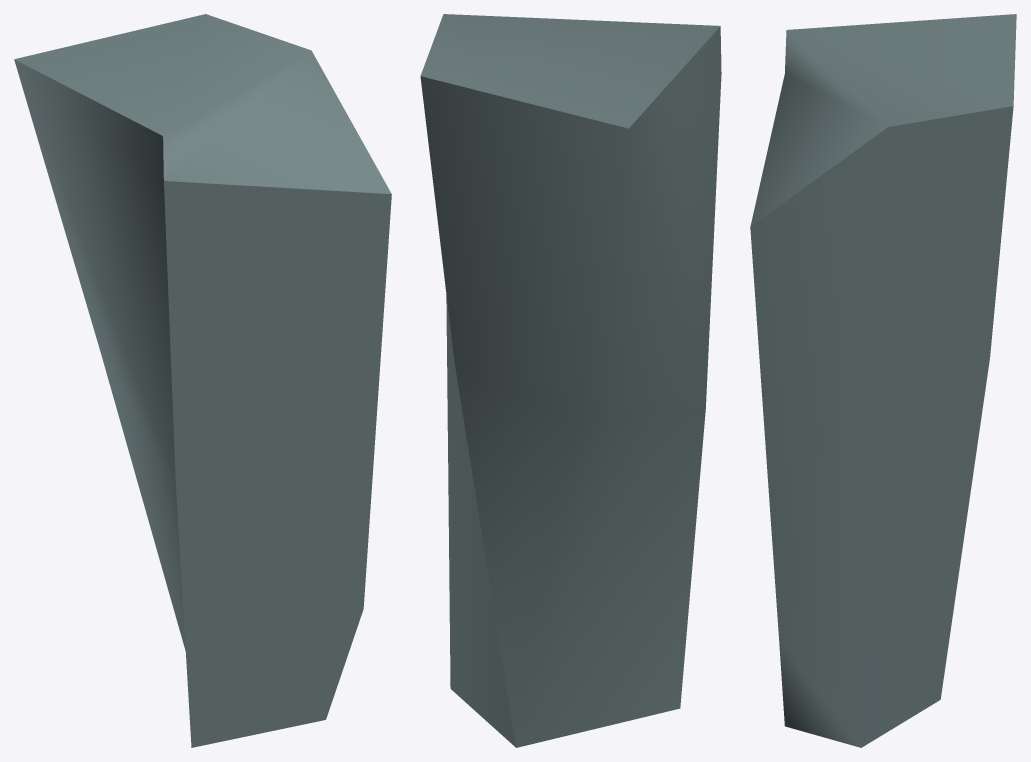
Rendered from floor5.fbx.
3 renders of one model, left to right at view 1: azimuth 30°, elevation 25°; view 2: azimuth 150°, elevation 25°; view 3: azimuth 270°, elevation 25°, orthographic. The views are drawn at different scales.
Visible parts, largest first — view 1: pCube1; view 2: pCube1; view 3: pCube1.
Boxes of the visible parts, left/top/right/bottom form: pCube1: left=14, top=14, right=391, bottom=747; pCube1: left=420, top=14, right=721, bottom=747; pCube1: left=750, top=14, right=1016, bottom=747.
Bounding box in the file's own units: 1.22 × 2.98 × 1.16.
